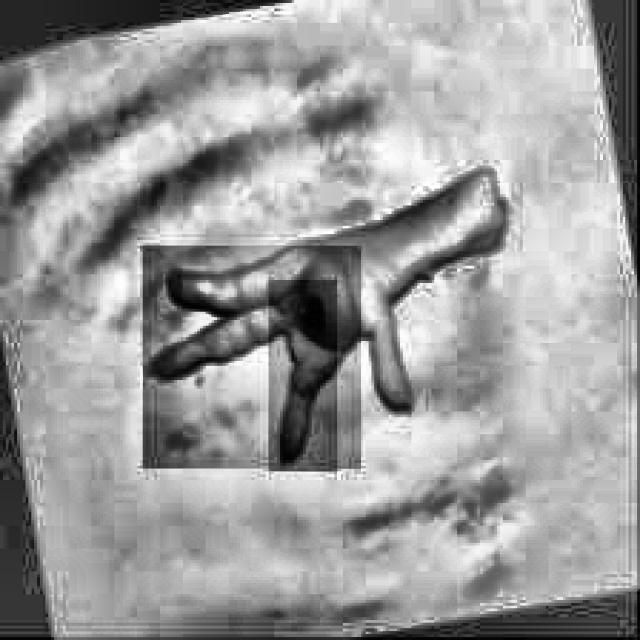Bumble foot: (281, 272, 346, 340)
